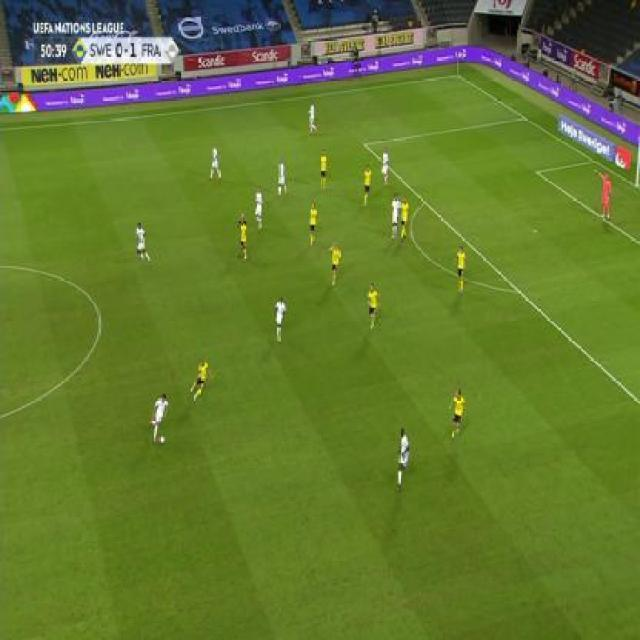ball: (159, 434, 167, 445)
player: (393, 426, 412, 494), (147, 391, 170, 445), (189, 356, 214, 402), (448, 388, 468, 441), (595, 168, 614, 222), (452, 244, 468, 297), (365, 281, 381, 330), (134, 221, 151, 266), (273, 294, 287, 343), (236, 214, 250, 262), (389, 192, 402, 240), (329, 240, 342, 286), (361, 162, 374, 208), (398, 195, 411, 241), (275, 158, 288, 198), (208, 143, 221, 182), (308, 200, 319, 246), (253, 184, 264, 230), (319, 148, 328, 191), (307, 101, 318, 135), (381, 146, 390, 186)
